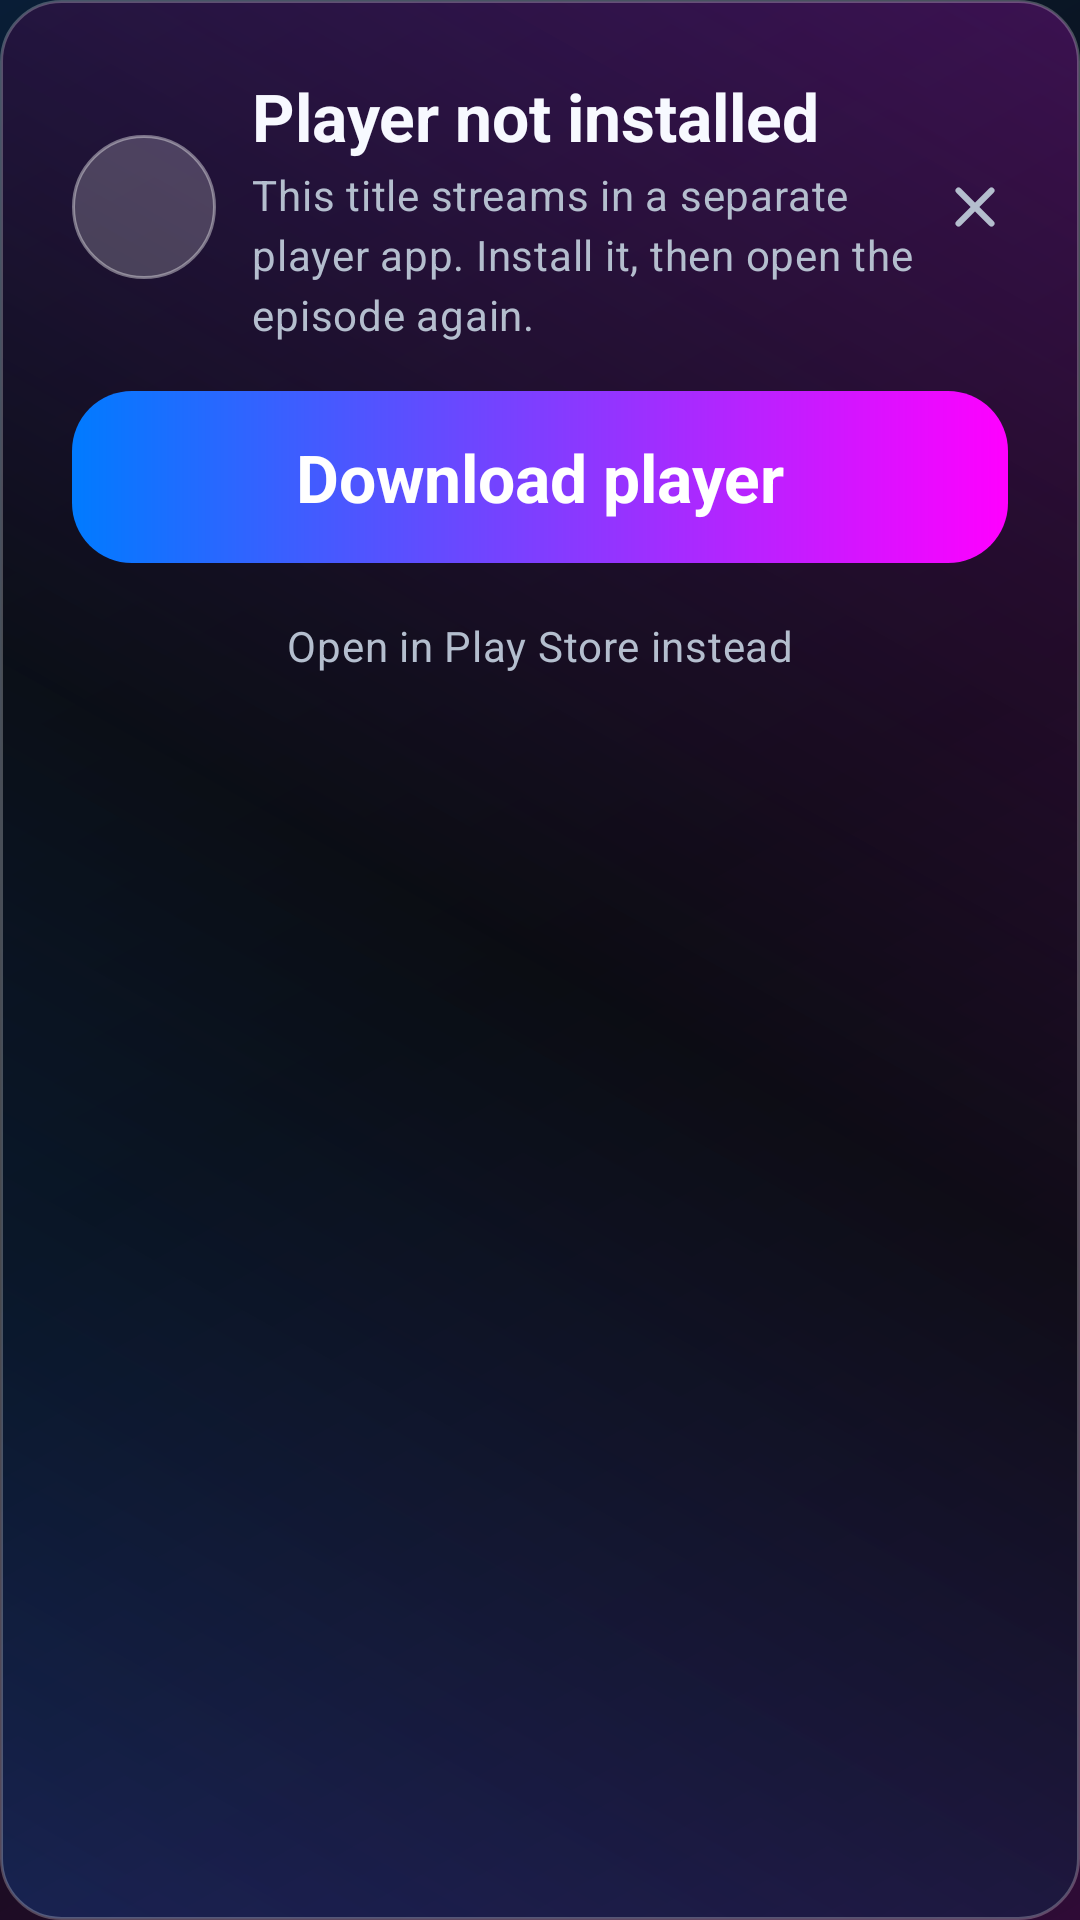

Icon bounding boxes for this 1080px×1920px phone screenshot, format bbox=(x1, y1, x2, y2):
Clear: bbox=(955, 187, 995, 227)
